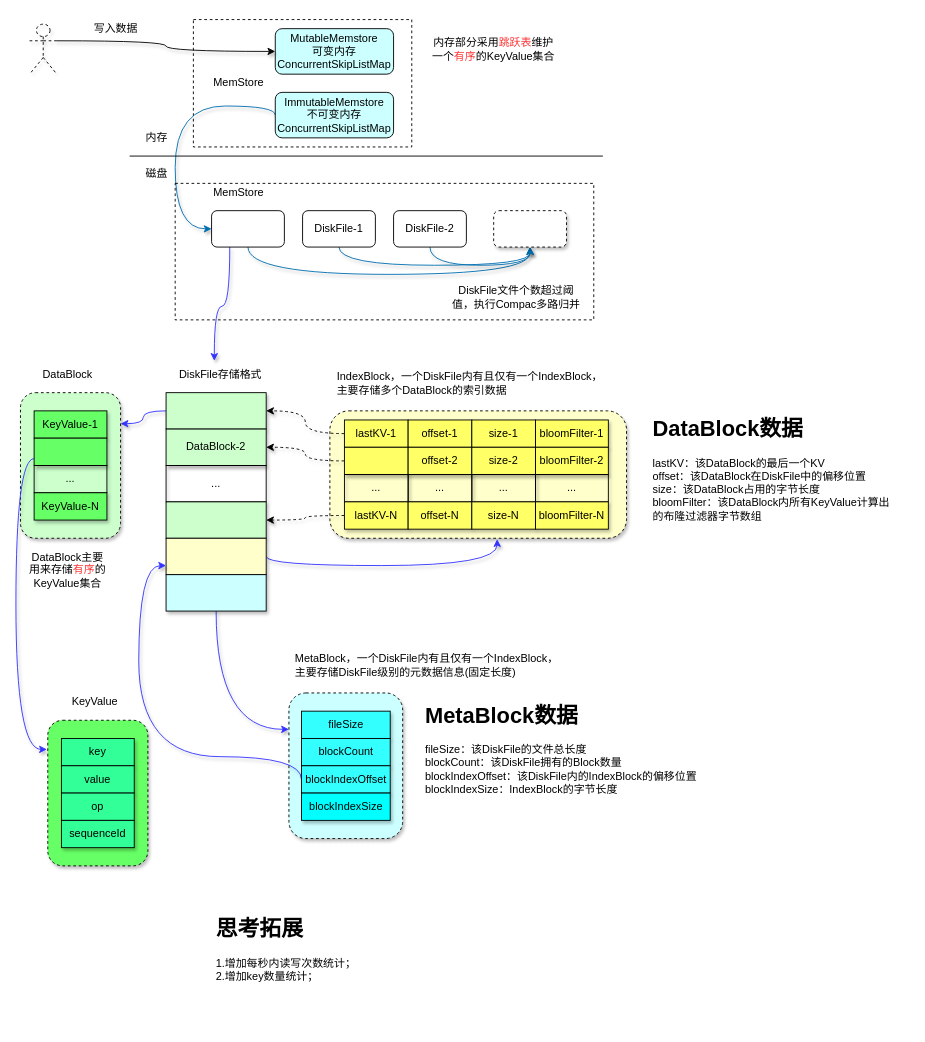
Some shapes in this 925 by 1042 pixel diagram are drawn without their labels. Here are the shapes that lost their labels. From the top down, the centre of each, then its label:
point (43, 50): 客户端
point (247, 228): DiskFile-0
point (530, 229): DiskFile-3
point (217, 411): DataBlock-1
point (71, 453): KeyValue-2
point (377, 462): lastKV-2
point (217, 521): DataBlock-N
point (217, 557): IndexBlock
point (217, 593): MetaBlock(定长)
